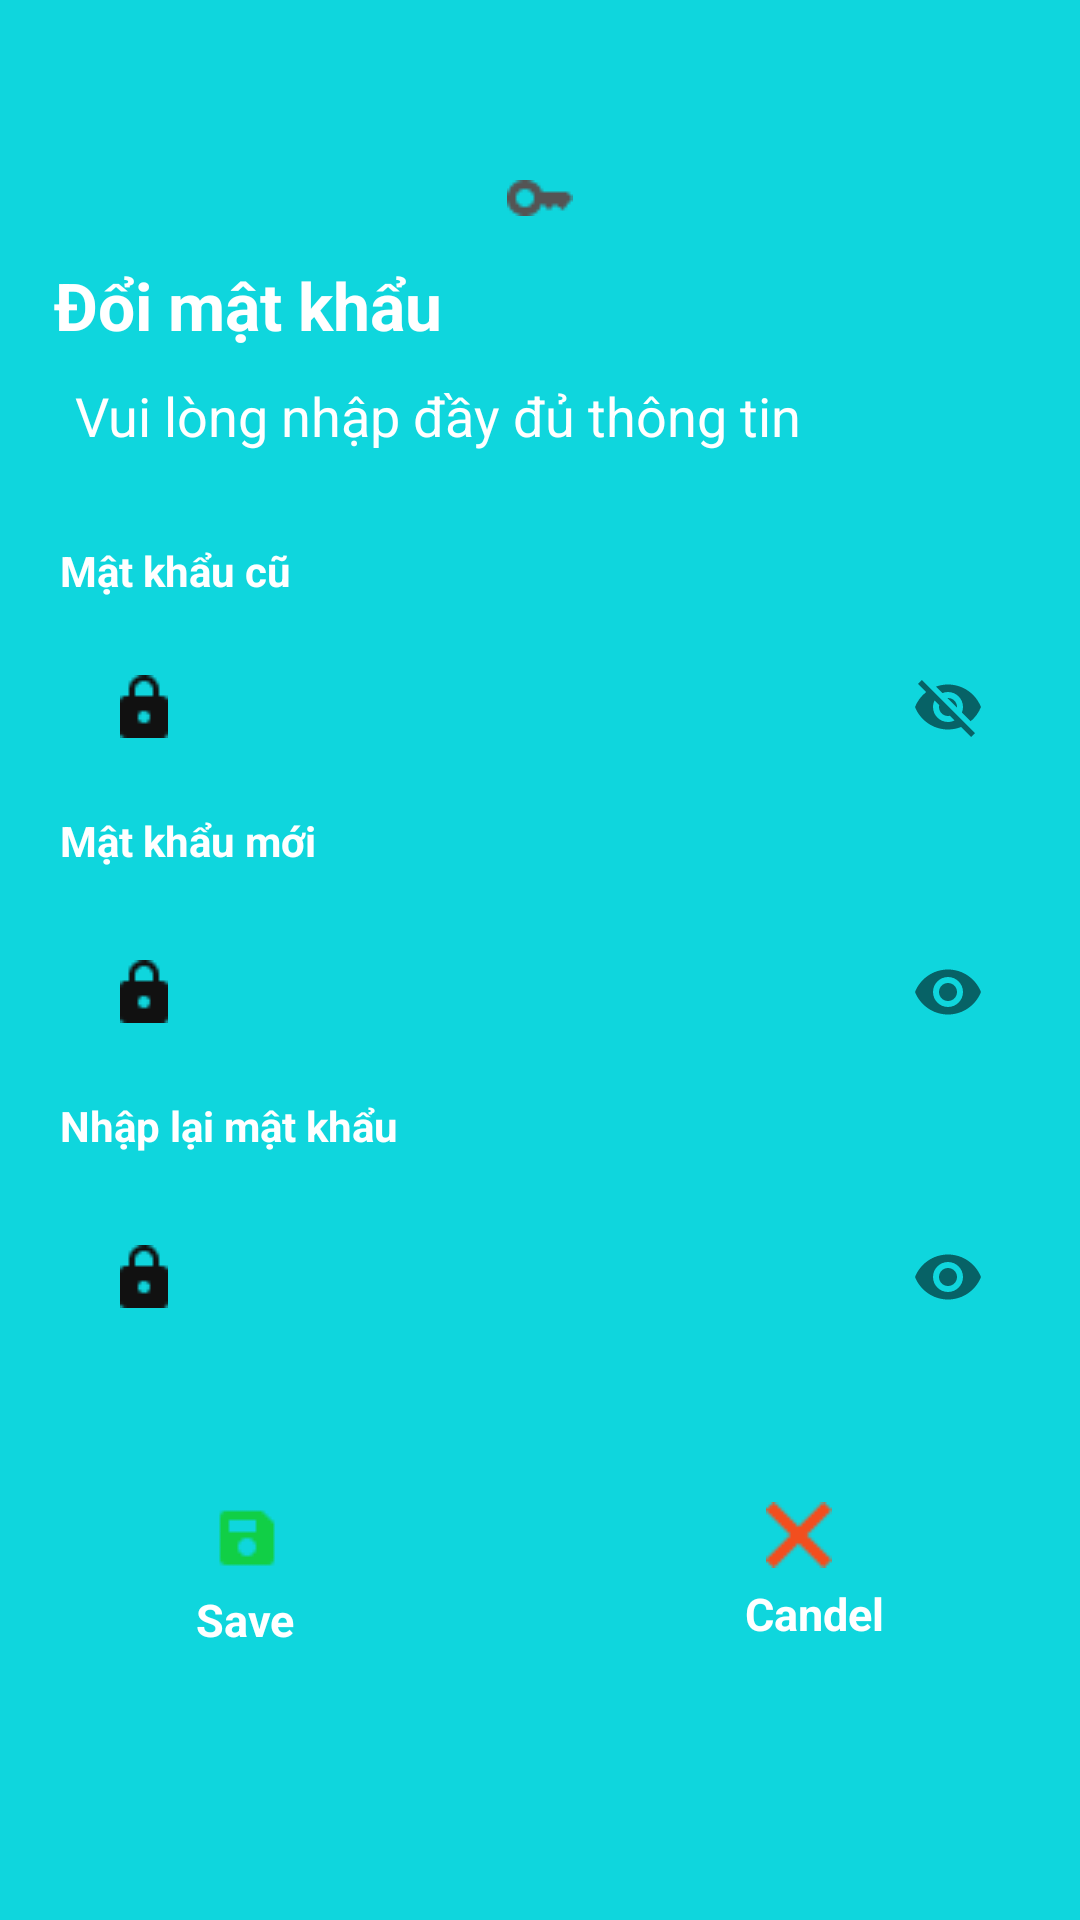

Locate icon controls on the screen. Image size 1080w x 1920h, boxes as BBox(x1, y1, x2, y2).
chagepass: BBox(507, 180, 573, 216)
exit: BBox(766, 1502, 832, 1568)
